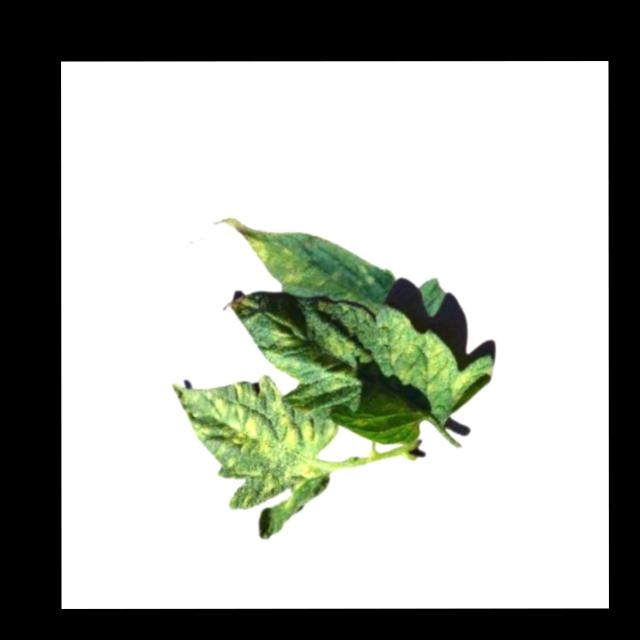Leaf_Mold: (170, 376, 340, 510), (388, 311, 492, 401), (216, 218, 314, 287)
